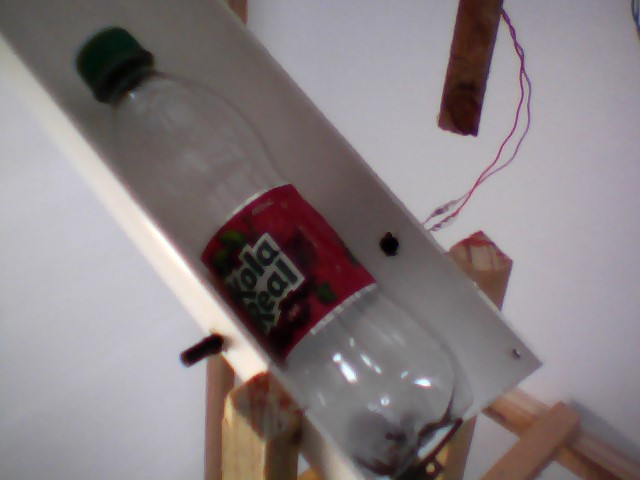plastico: (73, 20, 475, 480)
